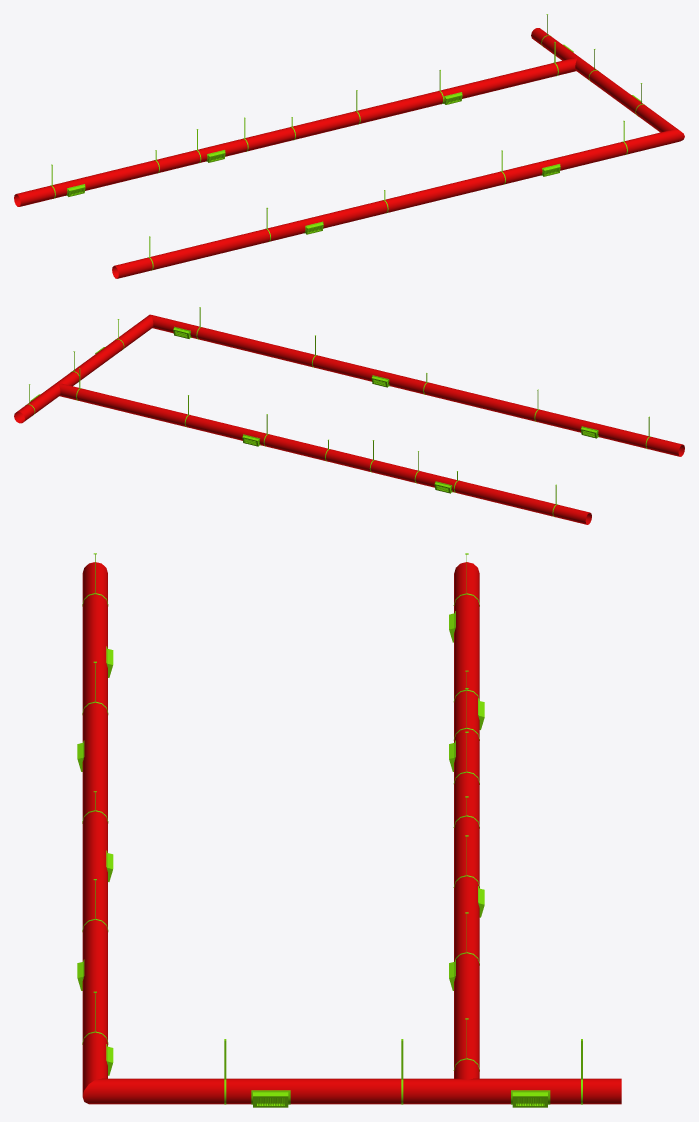
Rendered from DuctPipe.fbx.
3 renders of one model, top to bottom at view 1: azimuth 30°, elevation 25°; view 2: azimuth 150°, elevation 25°; view 3: azimuth 270°, elevation 25°, orthographic. The views are drawn at different scales.
Visible parts, largest first — view 1: DuctPipe; view 2: DuctPipe; view 3: DuctPipe.
Boxes of the visible parts, left/top/right/bottom form: DuctPipe: left=14, top=14, right=684, bottom=278; DuctPipe: left=14, top=307, right=684, bottom=524; DuctPipe: left=77, top=553, right=621, bottom=1107.
Size of the model in its own units: 2472 by 139 by 1082.
